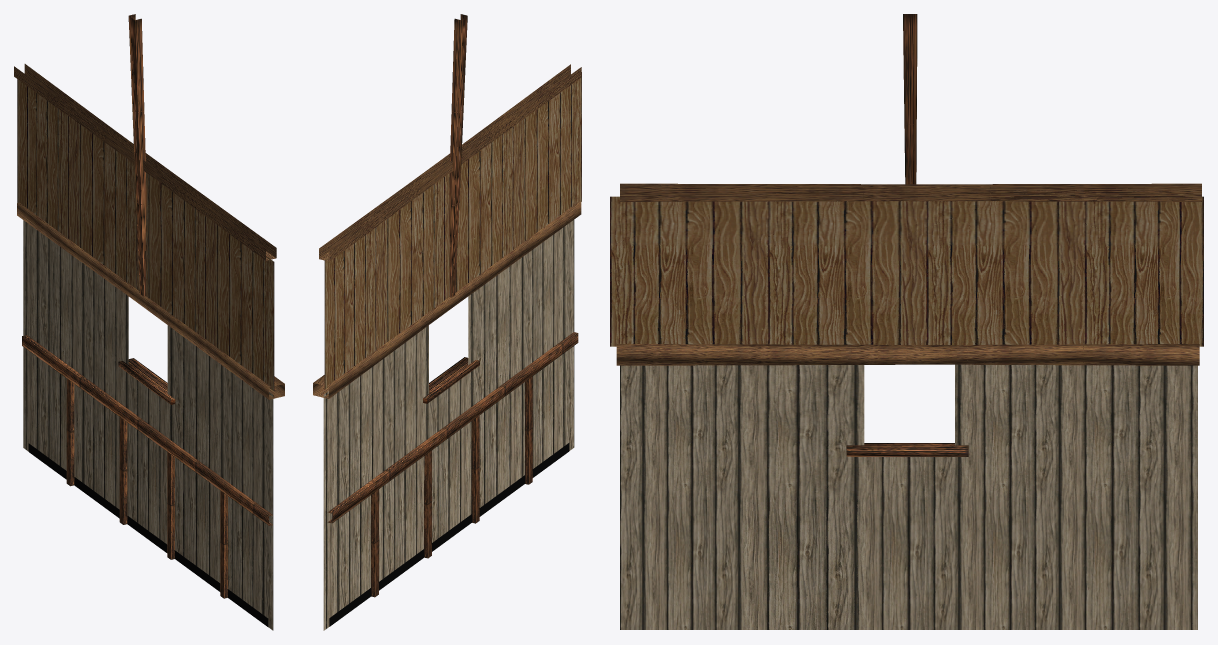
Rendered from LAKETOWN_WAREHOUSE1_PS_WH1_FRONTWALL88112__GX.fbx.
3 renders of one model, left to right at view 1: azimuth 30°, elevation 25°; view 2: azimuth 150°, elevation 25°; view 3: azimuth 270°, elevation 25°, orthographic. The views are drawn at different scales.
Visible parts, largest first — view 1: LAKETOWN_WAREHOUSE1_PS_WH1_FRONTWALL88112__GX; view 2: LAKETOWN_WAREHOUSE1_PS_WH1_FRONTWALL88112__GX; view 3: LAKETOWN_WAREHOUSE1_PS_WH1_FRONTWALL88112__GX.
Part boxes in pixels (x1,y1,x2,y2): LAKETOWN_WAREHOUSE1_PS_WH1_FRONTWALL88112__GX: (14,14,284,630); LAKETOWN_WAREHOUSE1_PS_WH1_FRONTWALL88112__GX: (313,14,581,630); LAKETOWN_WAREHOUSE1_PS_WH1_FRONTWALL88112__GX: (610,14,1203,629).
Bounding box in the file's own units: 9965 × 182549 × 161897.
Materials: 6 (6 with a texture image).
